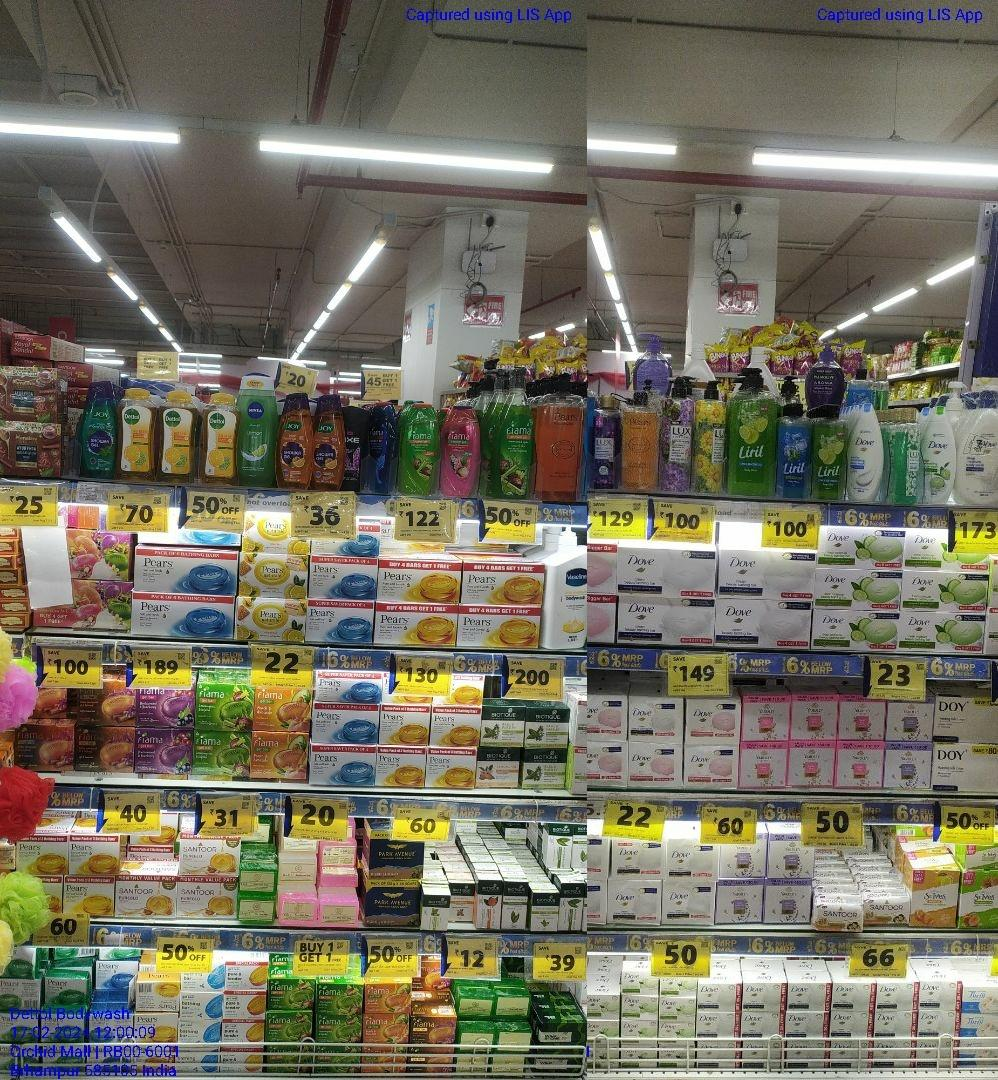Dettol_Bodywash_Refresh: (117, 389, 156, 482), (202, 392, 238, 486), (161, 392, 195, 484)
Dove_Gentle_Exfoliating_Body_Wash_250ML: (851, 403, 883, 503)
Dove_Refreshing_Body_Wash_250ML: (922, 405, 956, 506)
Fiama_Shower_Gel_Lemongrass_and_Jojoba_250ML: (404, 403, 438, 496)
Fiama_Shower_Gel_Patchouli_and_Macadamia_250ML: (443, 406, 479, 499)
Joy_Shower_Gel_Mandarin_and_Lemongrass_250ML: (280, 394, 311, 489), (312, 395, 342, 491)
Liril_Cooling_Mint_Body_Wash_250ML: (780, 404, 810, 498)
Liril_Lime_and_Tea_Tree_Oil_Body_Wash_250ML: (817, 404, 848, 500)
Lux_Black_Orchid_Scent_and_Juniper_Oil_Body_Wash_245ML: (593, 394, 618, 488)
Lux_Body_Wash_Skin_Detox_Freesia_Scent_and_Alove_Vera_245ML: (894, 408, 923, 505)
Nivea_Shower_Gel_Lemon_and_Oil_250ML: (239, 374, 276, 487)
